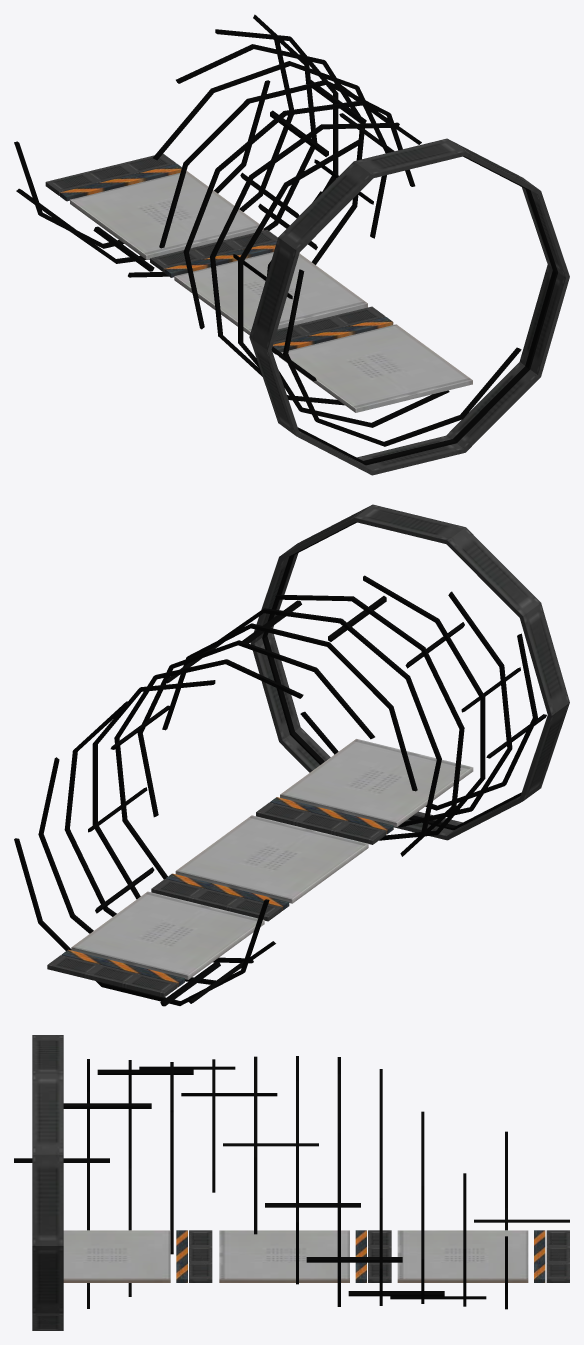
Rendered from colony-bridge-section-art.glb.
3 renders of one model, top to bottom at view 1: azimuth 30°, elevation 25°; view 2: azimuth 150°, elevation 25°; view 3: azimuth 270°, elevation 25°, orthographic. The views are drawn at different scales.
Parts seen in each view (by area): view 1: Colony_BridgeSection_Art; view 2: Colony_BridgeSection_Art; view 3: Colony_BridgeSection_Art.
Part boxes in pixels (left/top/right/bottom): Colony_BridgeSection_Art: left=14, top=14, right=569, bottom=475; Colony_BridgeSection_Art: left=14, top=504, right=569, bottom=1006; Colony_BridgeSection_Art: left=14, top=1035, right=569, bottom=1330.
Bounding box in the file's own units: 7.13 × 6.78 × 13.29.
Materials: 3 (3 with a texture image).
